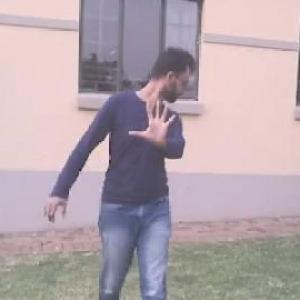follow_hand: (127, 96, 180, 150)
